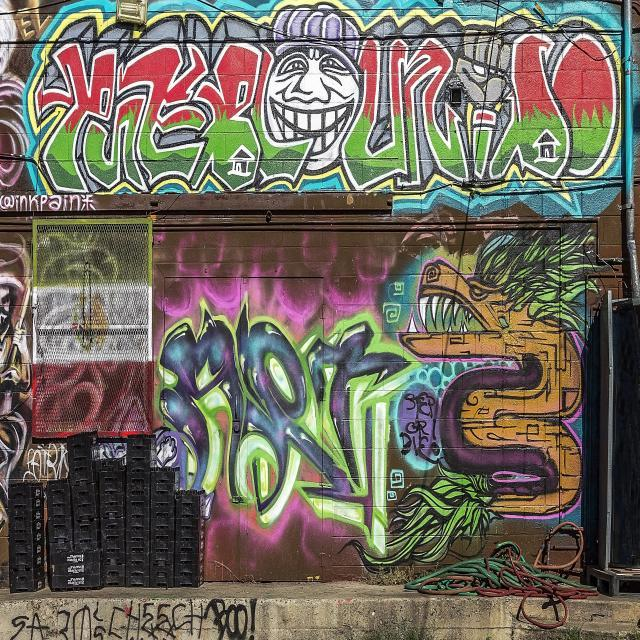-: (20, 0, 637, 218), (387, 232, 597, 634), (155, 294, 414, 556), (10, 598, 257, 640), (0, 243, 30, 484), (0, 0, 27, 192), (23, 442, 70, 485), (0, 196, 94, 211)
